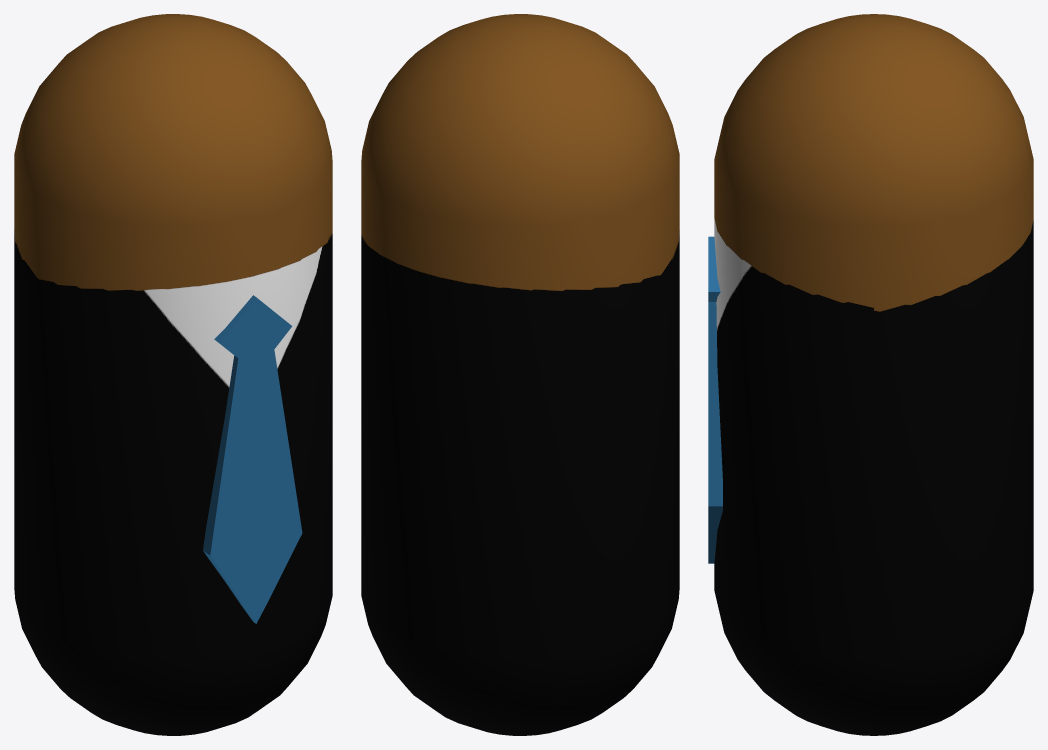
Rendered from BusinessMan.fbx.
The picture shows the model from 3 angles, left to right: view 1: azimuth 30°, elevation 25°; view 2: azimuth 150°, elevation 25°; view 3: azimuth 270°, elevation 25°; orthographic projection.
Visible parts, largest first — view 1: BusinessMan; view 2: BusinessMan; view 3: BusinessMan.
Part boxes in pixels (left/top/right/bottom): BusinessMan: left=14, top=14, right=332, bottom=735; BusinessMan: left=361, top=14, right=679, bottom=735; BusinessMan: left=708, top=14, right=1033, bottom=735.
Bounding box in the file's own units: 0.9706 × 2.32 × 0.989.
